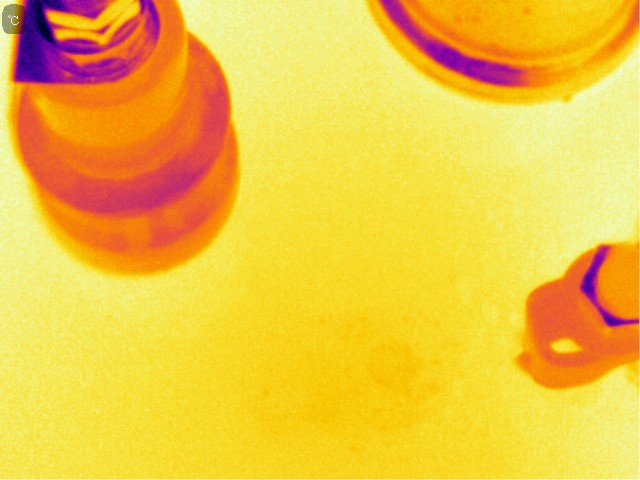Oil: (360, 326, 435, 410)
